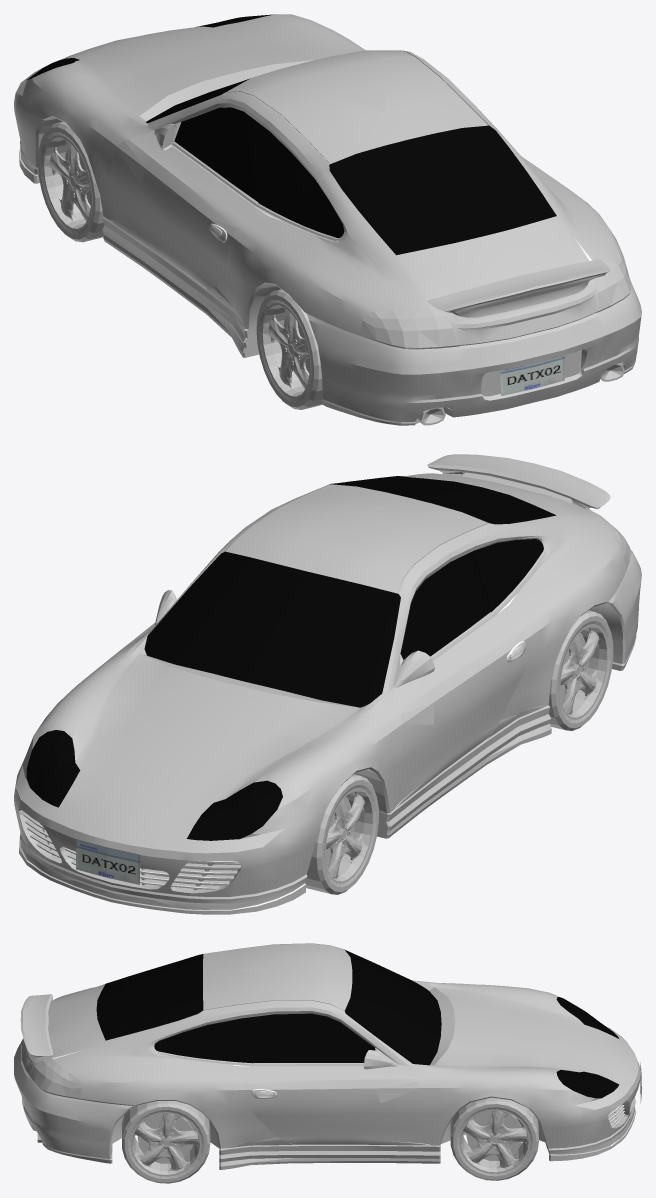
Rendered from porsche.FBX.
The picture shows the model from 3 angles, top to bottom: view 1: azimuth 30°, elevation 25°; view 2: azimuth 150°, elevation 25°; view 3: azimuth 270°, elevation 25°; orthographic projection. The views are drawn at different scales.
Parts seen in each view (by area): view 1: main, glasswindows, wheel003, wheel002, lights, registerplate; view 2: main, glasswindows, frontlightglass, wheel002, wheel003, registerplate; view 3: main, glasswindows, wheel004, wheel001, frontlightglass, lights.
Part boxes in pixels (x1,y1,x2,y2): main: (14, 14, 641, 425); glasswindows: (146, 78, 556, 255); wheel003: (256, 289, 322, 409); wheel002: (38, 121, 104, 242); lights: (36, 20, 631, 349); registerplate: (500, 356, 564, 395); main: (14, 454, 641, 914); glasswindows: (144, 476, 556, 707); frontlightglass: (26, 730, 282, 840); wheel002: (305, 774, 378, 894); wheel003: (548, 610, 613, 730); registerplate: (76, 839, 140, 884); main: (14, 943, 640, 1169); glasswindows: (96, 950, 441, 1065); wheel004: (122, 1101, 210, 1183); wheel001: (450, 1097, 538, 1180); frontlightglass: (556, 997, 619, 1098); lights: (30, 1000, 570, 1099).
Bounding box in the file's own units: 31.04 × 21.7 × 75.17.
